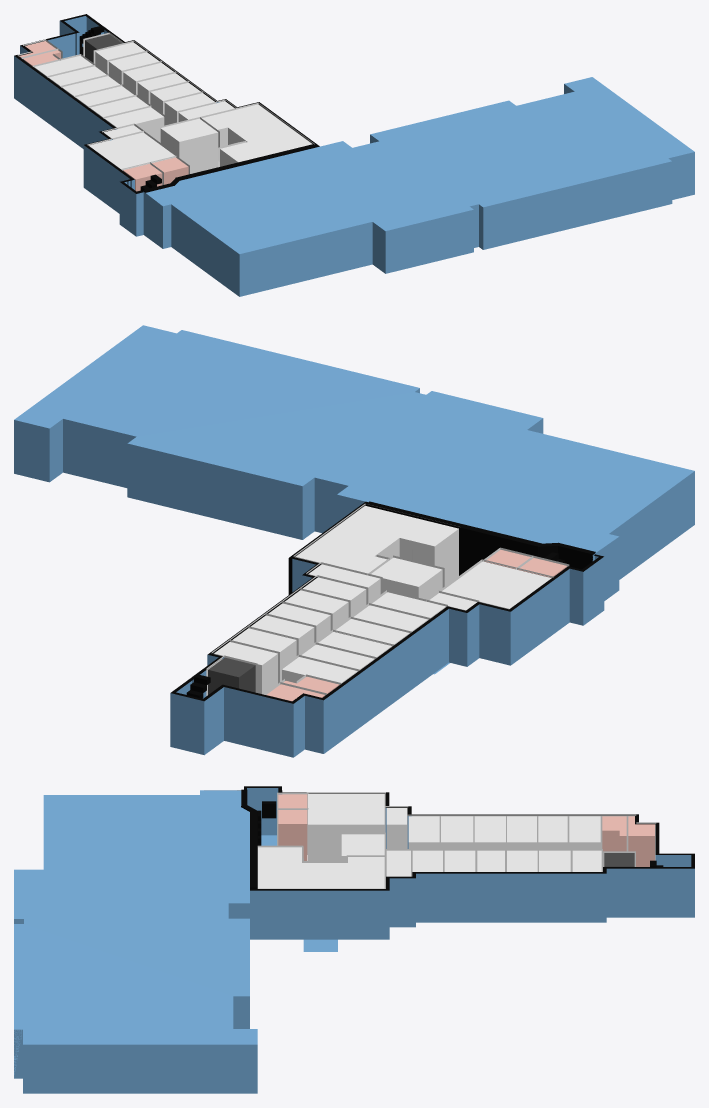
3 views of the same model, one above another, from view 1: azimuth 30°, elevation 25°; view 2: azimuth 150°, elevation 25°; view 3: azimuth 270°, elevation 25° (orthographic). The views are drawn at different scales.
Parts seen in each view (by area): view 1: object, room_1_4_14, room_1_4_16, room_1_4_15, room_1_4_8, room_1_4_6, room_1_4_2, room_1_4_5, room_1_4_3, room_1_4_11, room_1_4_7, room_1_4_9 (+8 smaller); view 2: object, room_1_4_14, room_1_4_15, room_1_4_16, room_1_4_7, エレベーター_1_4_1, room_1_4_13, room_1_4_5, room_1_4_6, room_1_4_3, room_1_4_2, room_1_4_10 (+6 smaller); view 3: object, room_1_4_14, room_1_4_15, トイレ_1_4_2, room_1_4_9, トイレ_1_4_1, room_1_4_13, room_1_4_10, room_1_4_8, room_1_4_16, room_1_4_11, room_1_4_12 (+9 smaller).
Boxes of the visible parts, x1=… form: object: x1=14, y1=14, x2=694, y2=296; room_1_4_14: x1=202, y1=104, x2=312, y2=166; room_1_4_16: x1=160, y1=118, x2=218, y2=173; room_1_4_15: x1=89, y1=132, x2=176, y2=170; room_1_4_8: x1=104, y1=107, x2=164, y2=141; room_1_4_6: x1=109, y1=52, x2=160, y2=84; room_1_4_2: x1=164, y1=93, x2=214, y2=124; room_1_4_5: x1=123, y1=63, x2=173, y2=93; room_1_4_3: x1=150, y1=82, x2=200, y2=113; room_1_4_11: x1=62, y1=76, x2=120, y2=97; room_1_4_7: x1=95, y1=42, x2=144, y2=72; room_1_4_9: x1=90, y1=96, x2=148, y2=117; object: x1=14, y1=325, x2=694, y2=757; room_1_4_14: x1=295, y1=506, x2=458, y2=585; room_1_4_15: x1=442, y1=561, x2=551, y2=609; room_1_4_16: x1=371, y1=557, x2=442, y2=599; room_1_4_7: x1=214, y1=642, x2=277, y2=694; エレベーター_1_4_1: x1=208, y1=657, x2=255, y2=694; room_1_4_13: x1=282, y1=657, x2=357, y2=683; room_1_4_5: x1=249, y1=615, x2=314, y2=655; room_1_4_6: x1=232, y1=628, x2=296, y2=667; room_1_4_3: x1=284, y1=590, x2=348, y2=629; room_1_4_2: x1=303, y1=577, x2=366, y2=615; room_1_4_10: x1=334, y1=619, x2=409, y2=646; object: x1=14, y1=786, x2=694, y2=1093; room_1_4_14: x1=258, y1=847, x2=384, y2=888; room_1_4_15: x1=308, y1=794, x2=384, y2=860; トイレ_1_4_2: x1=278, y1=810, x2=307, y2=860; room_1_4_9: x1=441, y1=816, x2=473, y2=848; トイレ_1_4_1: x1=628, y1=816, x2=654, y2=866; room_1_4_13: x1=569, y1=816, x2=600, y2=848; room_1_4_10: x1=474, y1=816, x2=505, y2=848; room_1_4_8: x1=408, y1=816, x2=439, y2=848; room_1_4_16: x1=341, y1=834, x2=384, y2=860; room_1_4_11: x1=507, y1=816, x2=536, y2=848; room_1_4_12: x1=538, y1=816, x2=567, y2=848.
Bounding box in the file's own units: 2.05 × 0.3714 × 2.29.
